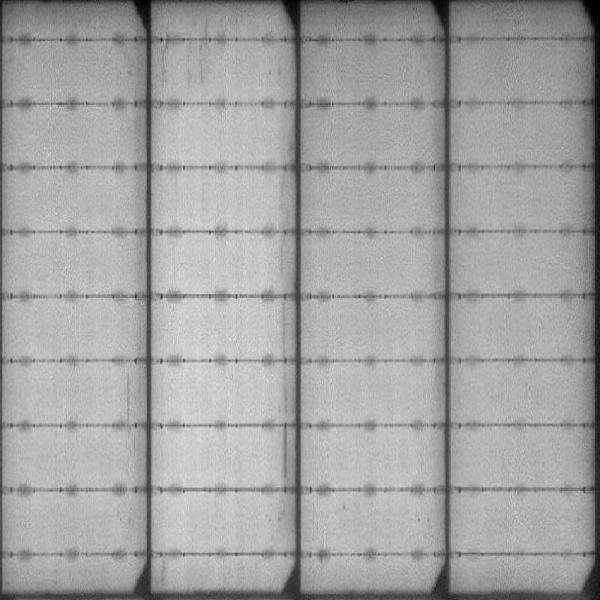scratch: (279, 302, 292, 478), (120, 373, 136, 437)
